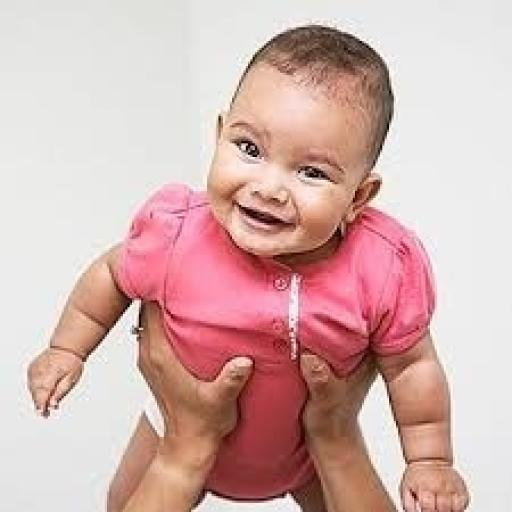laughing: (22, 18, 476, 510)
